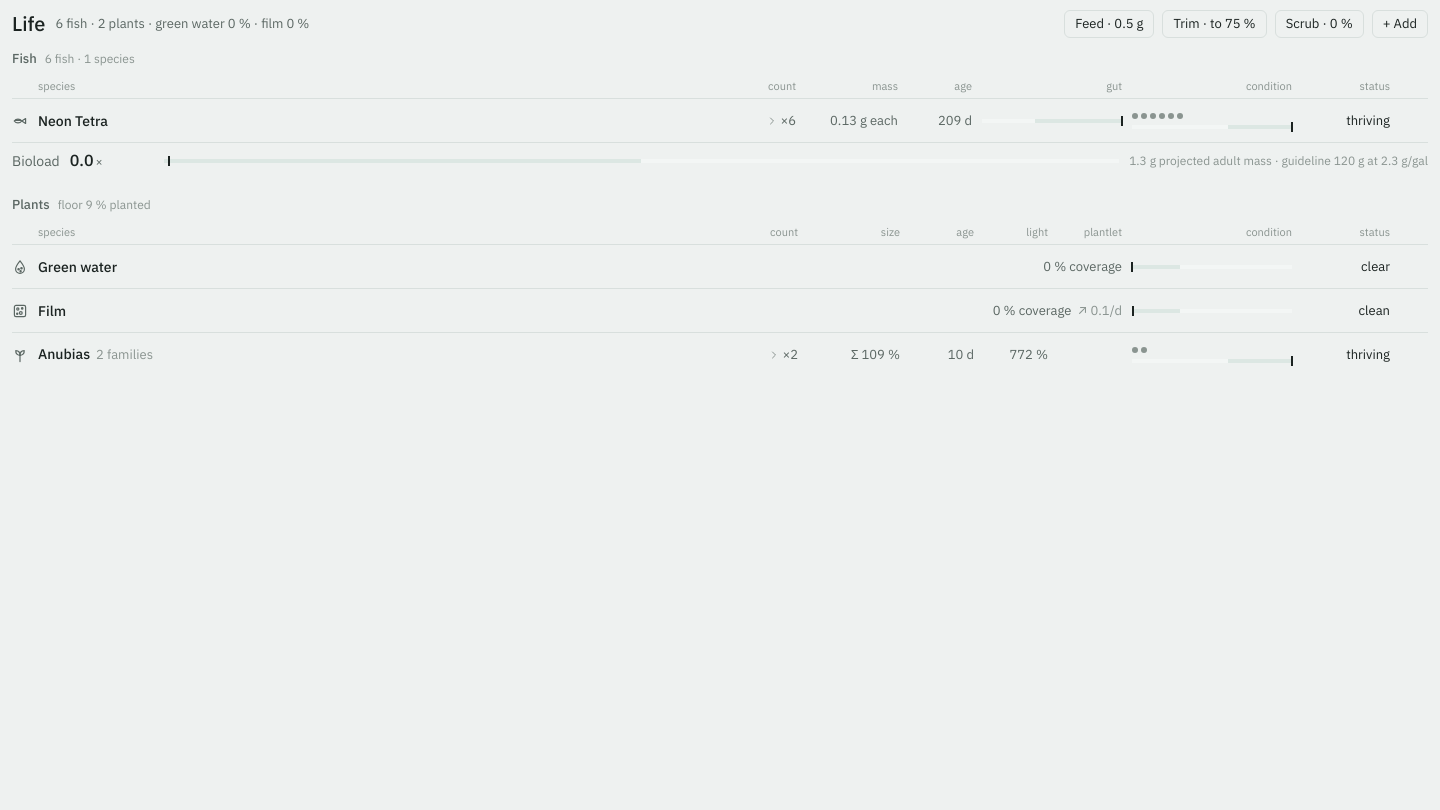
Test case: LifeSection (phone) › still opens a row’s ledger, where there is no room to read it in the table
Click the button with aria-label "inspect the worst of 6" at point(1346, 120), box [1302,110,1390,130]
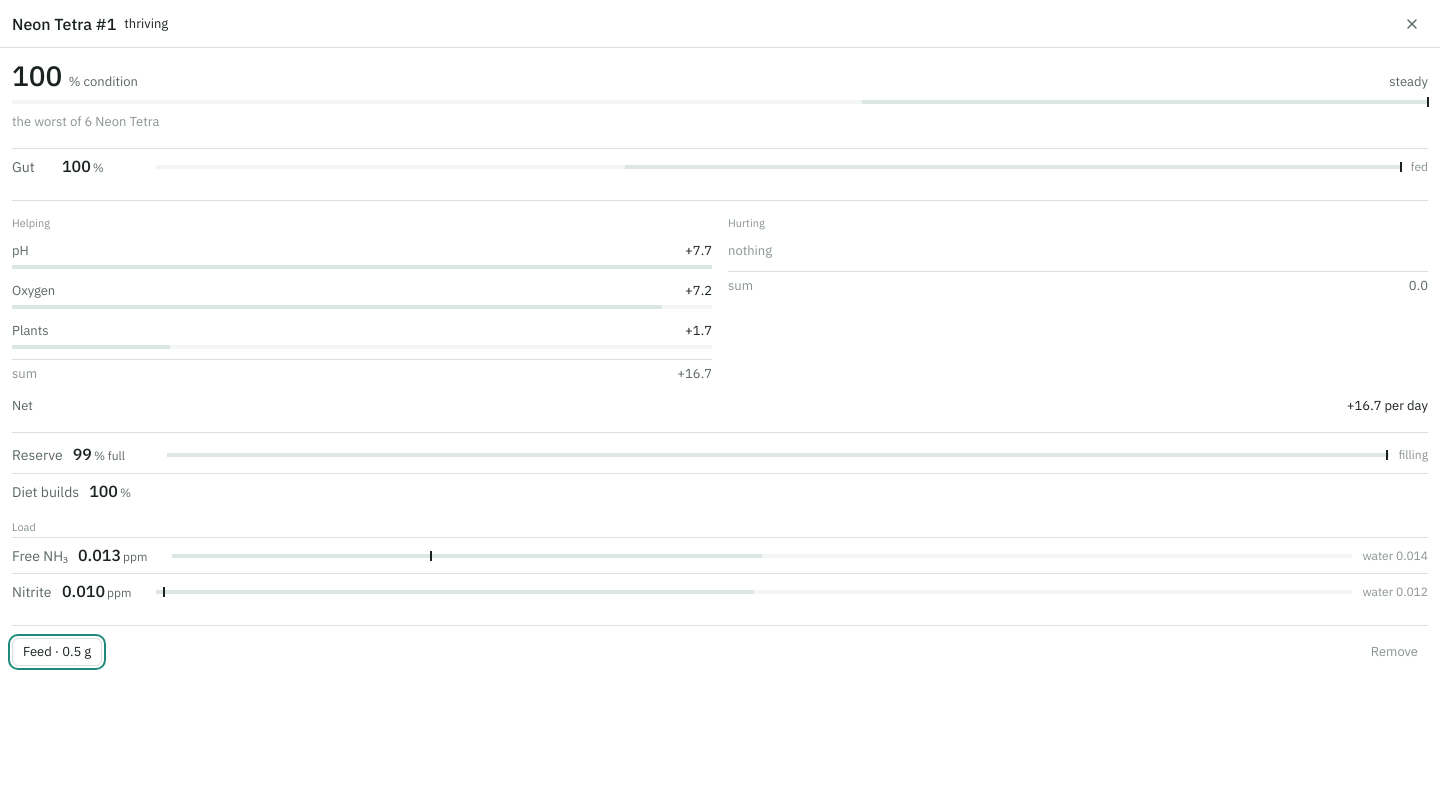
Check: the heading "Helping" is shown, box [12,216,50,230]
